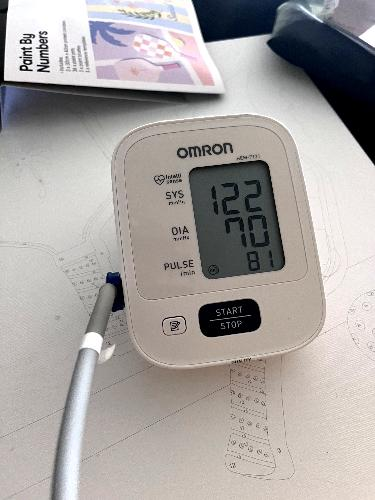bpm: (185, 154, 288, 283)
